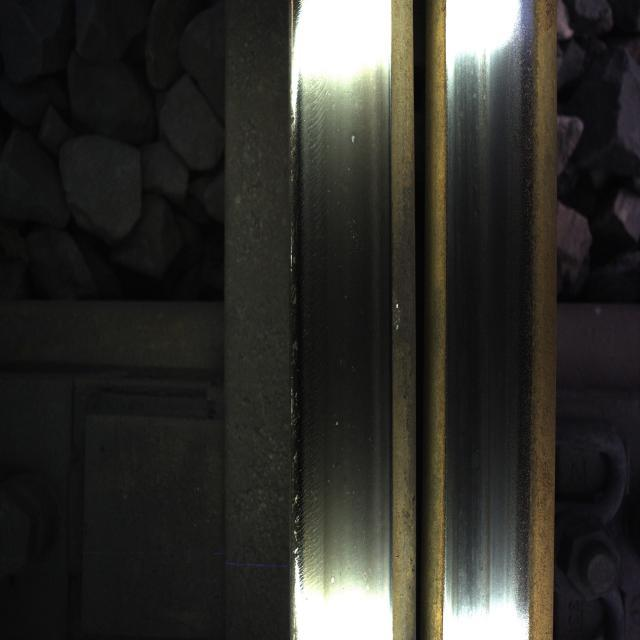break: (304, 68, 376, 572), (453, 63, 518, 602)
